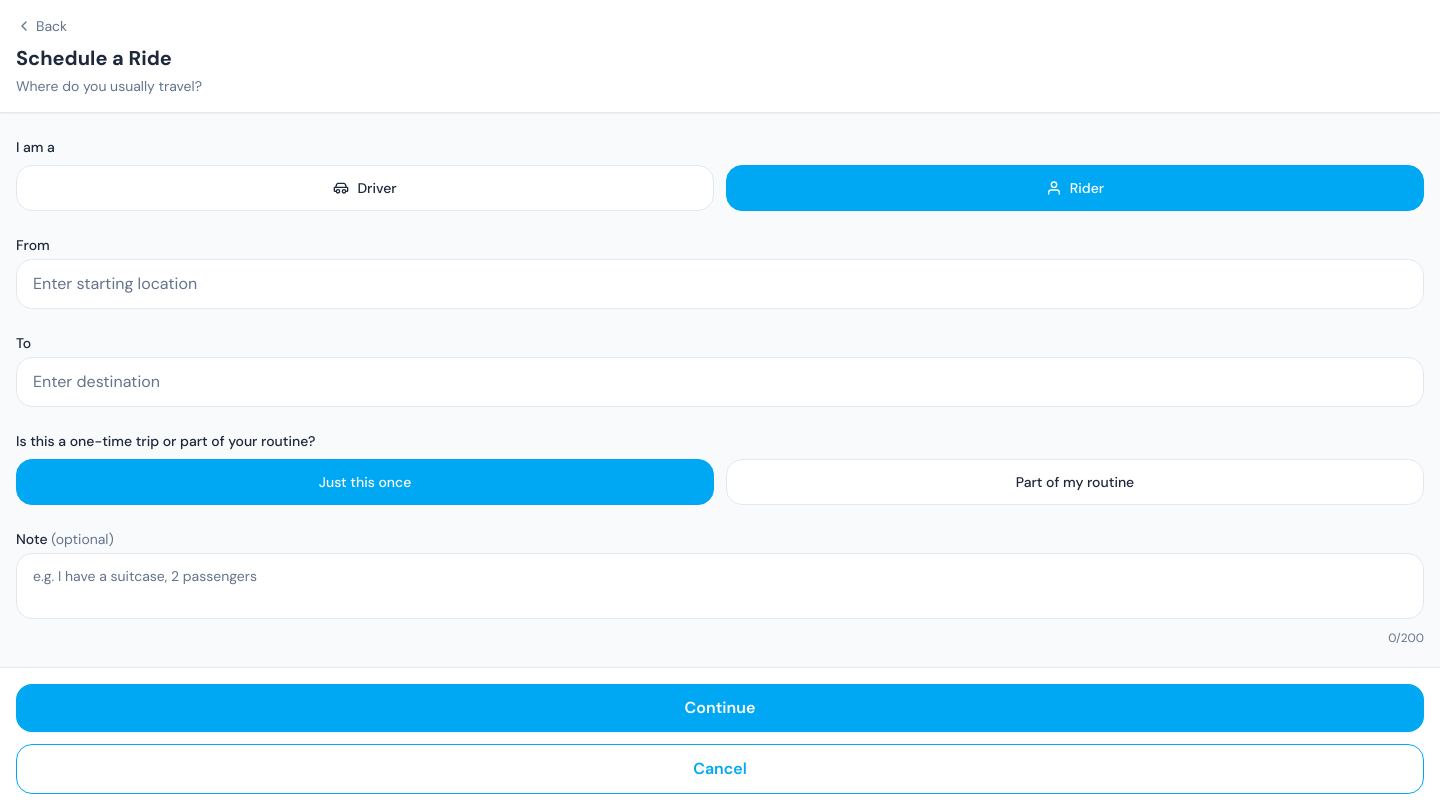
SchedulePage › shows all validation errors when continue clicked with empty form
Click the button with test id "continue-button" at (720, 708), box 16,684 -> 1424,732
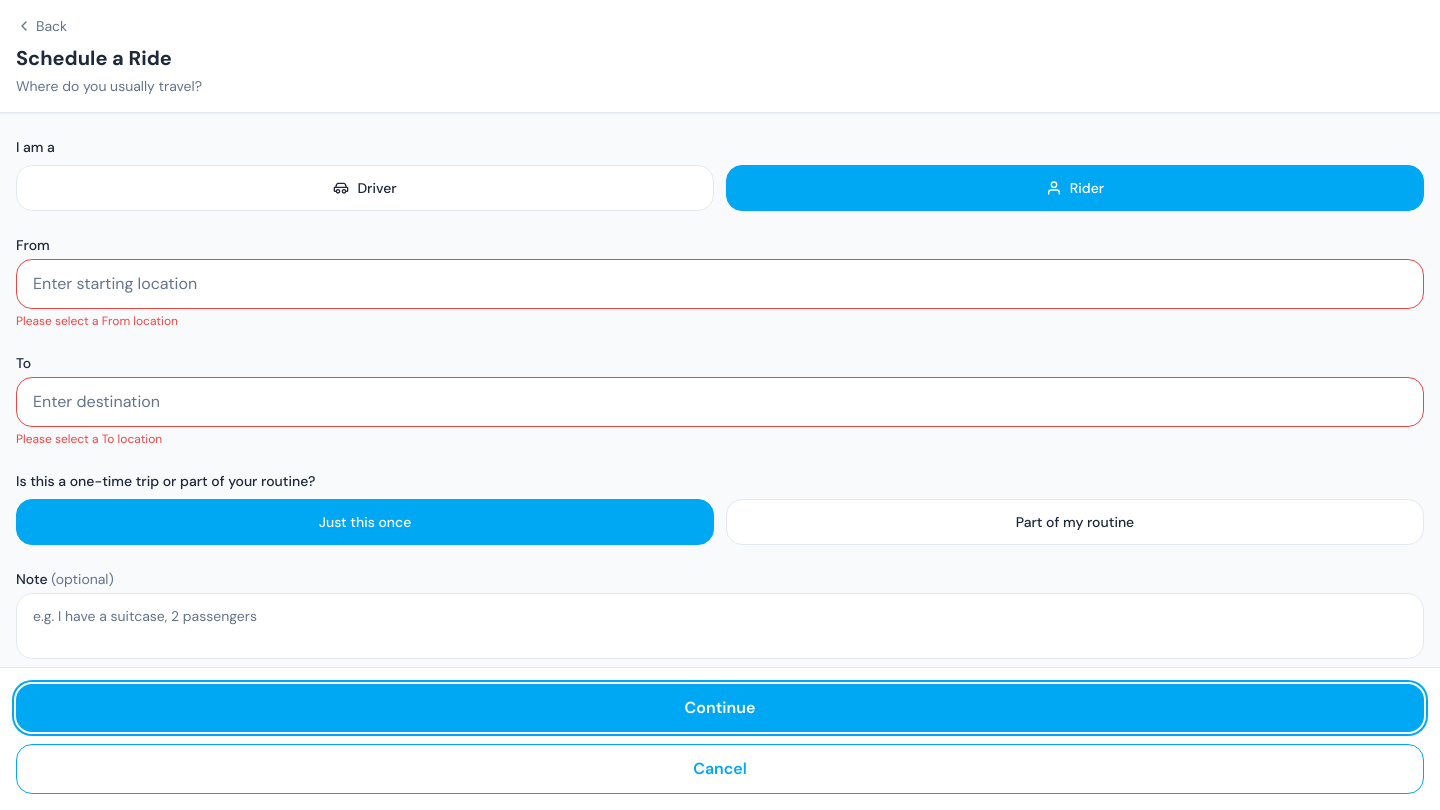
Expected: the text "Please select a From location" is shown, 16,313 -> 178,329
Expected: the text "Please select a To location" is shown, 16,431 -> 162,447
